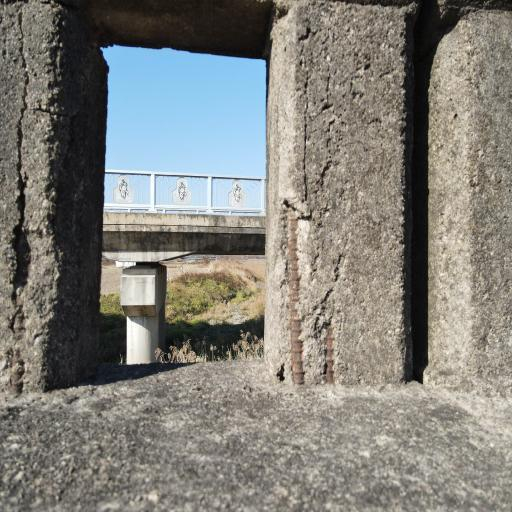exposed_rebar: (11, 188, 30, 393), (288, 208, 305, 384), (324, 322, 334, 384)
